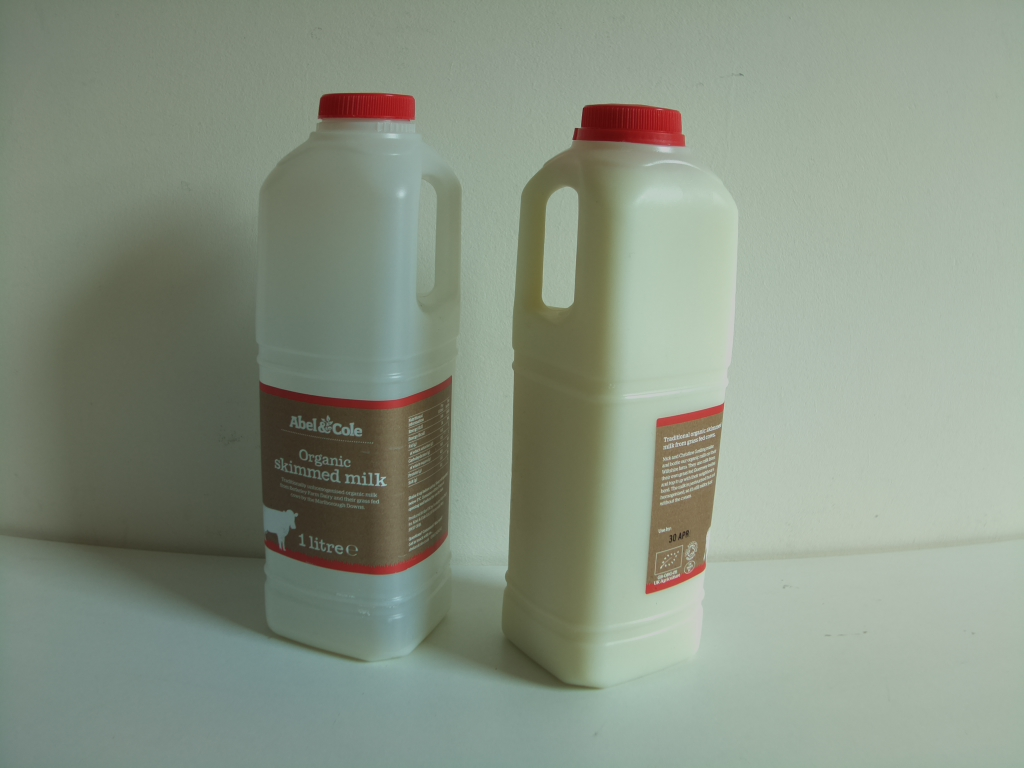milk: (498, 94, 745, 696), (245, 80, 466, 661)
